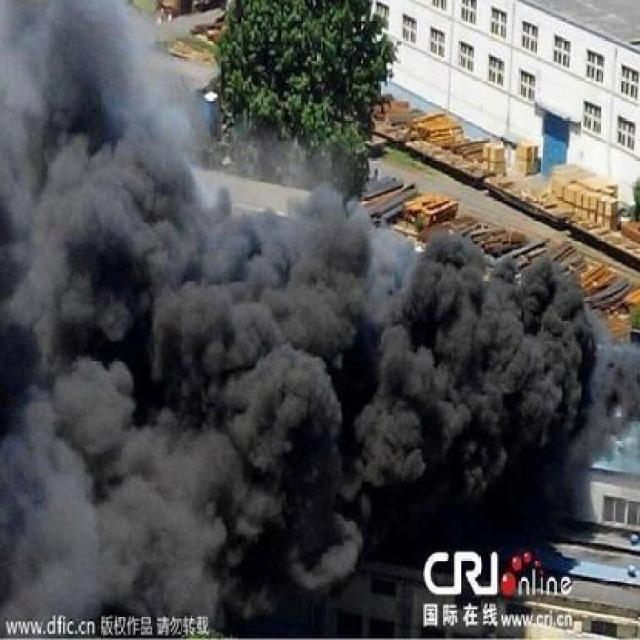Smoke: (6, 2, 598, 615)
